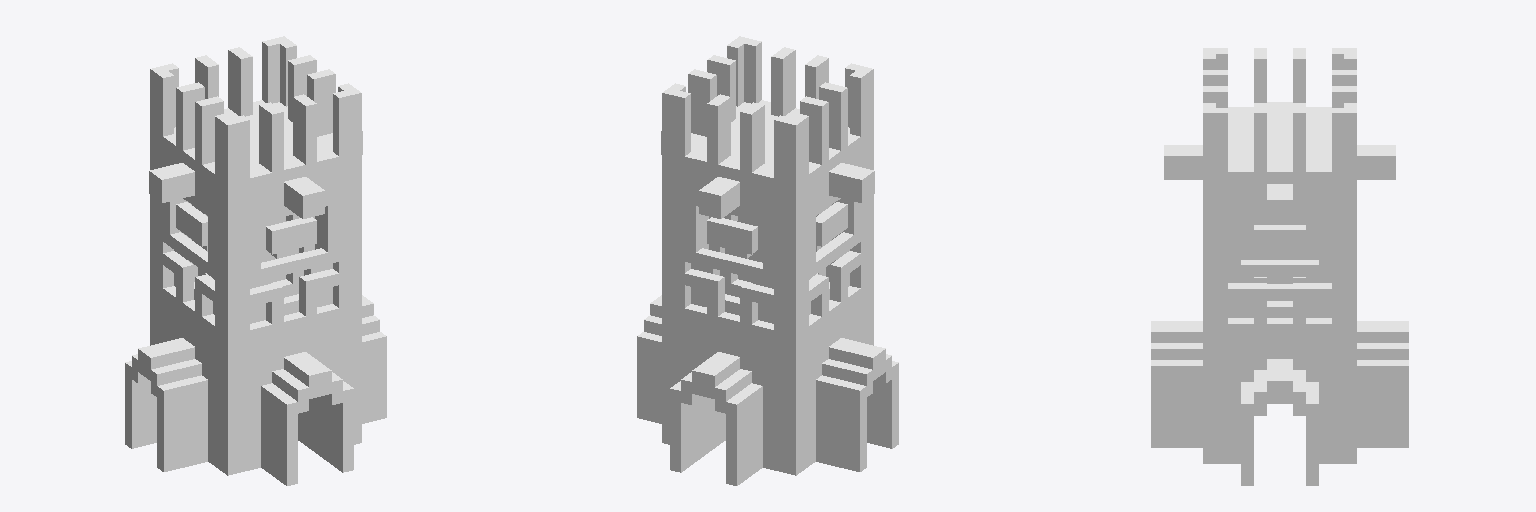
The model's file is IceTowerModel.obj.
3 renders of one model, left to right at view 1: azimuth 30°, elevation 25°; view 2: azimuth 150°, elevation 25°; view 3: azimuth 270°, elevation 25°, orthographic.
Parts seen in each view (by area): view 1: object 1; view 2: object 1; view 3: object 1.
Boxes of the visible parts, x1,y1,x2,y2 form: object 1: [125, 36, 386, 485]; object 1: [637, 36, 898, 485]; object 1: [1151, 48, 1408, 485].
Bounding box in the file's own units: 2 × 3 × 2.